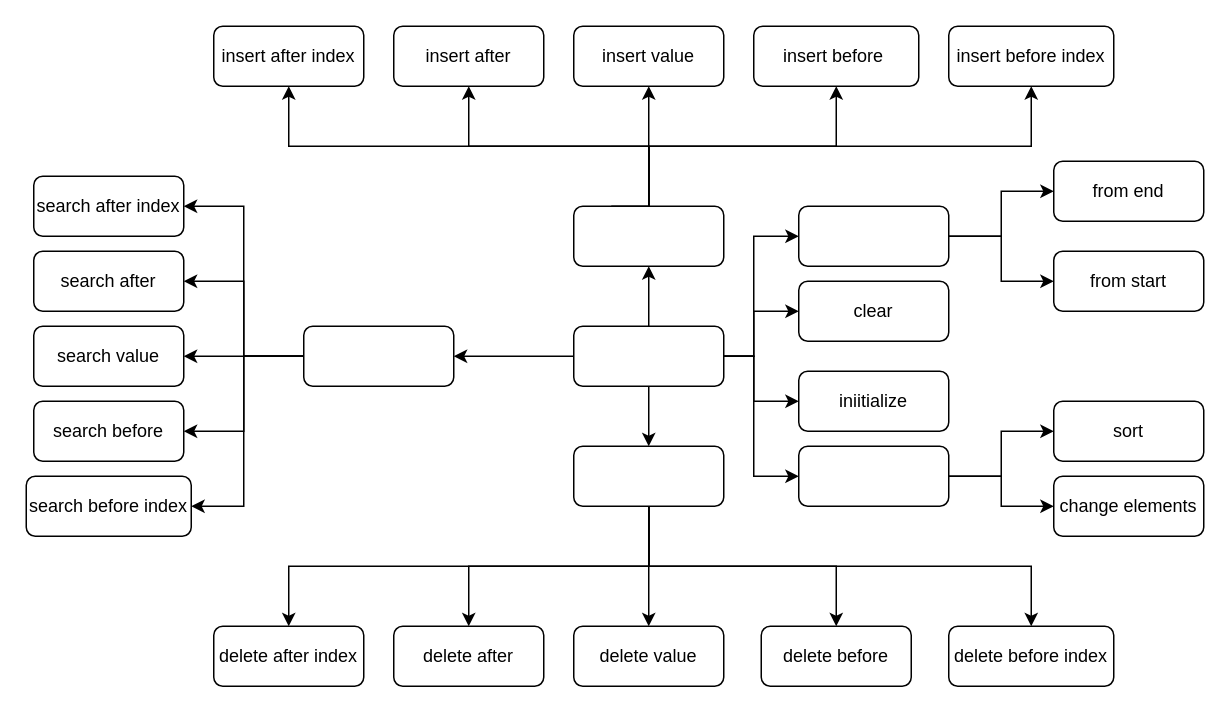
Some shapes in this 1230 by 713 pixel diagram are drawn without their labels. Here are the shapes that lost their labels. From the top down, the box of each, then its label:
(572, 205, 724, 266): insert
(797, 205, 949, 266): output
(302, 325, 454, 386): search
(572, 325, 724, 386): List
(572, 445, 724, 506): delete
(797, 445, 949, 506): srs
